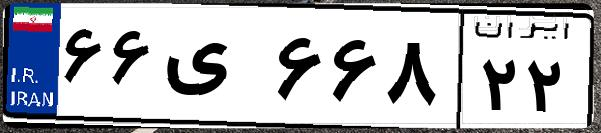2: (475, 38, 525, 113), (525, 38, 570, 115)
6: (270, 28, 330, 110), (330, 28, 385, 110), (57, 26, 110, 100), (110, 28, 158, 98)
8: (385, 28, 445, 110)
ی: (158, 20, 270, 120)
